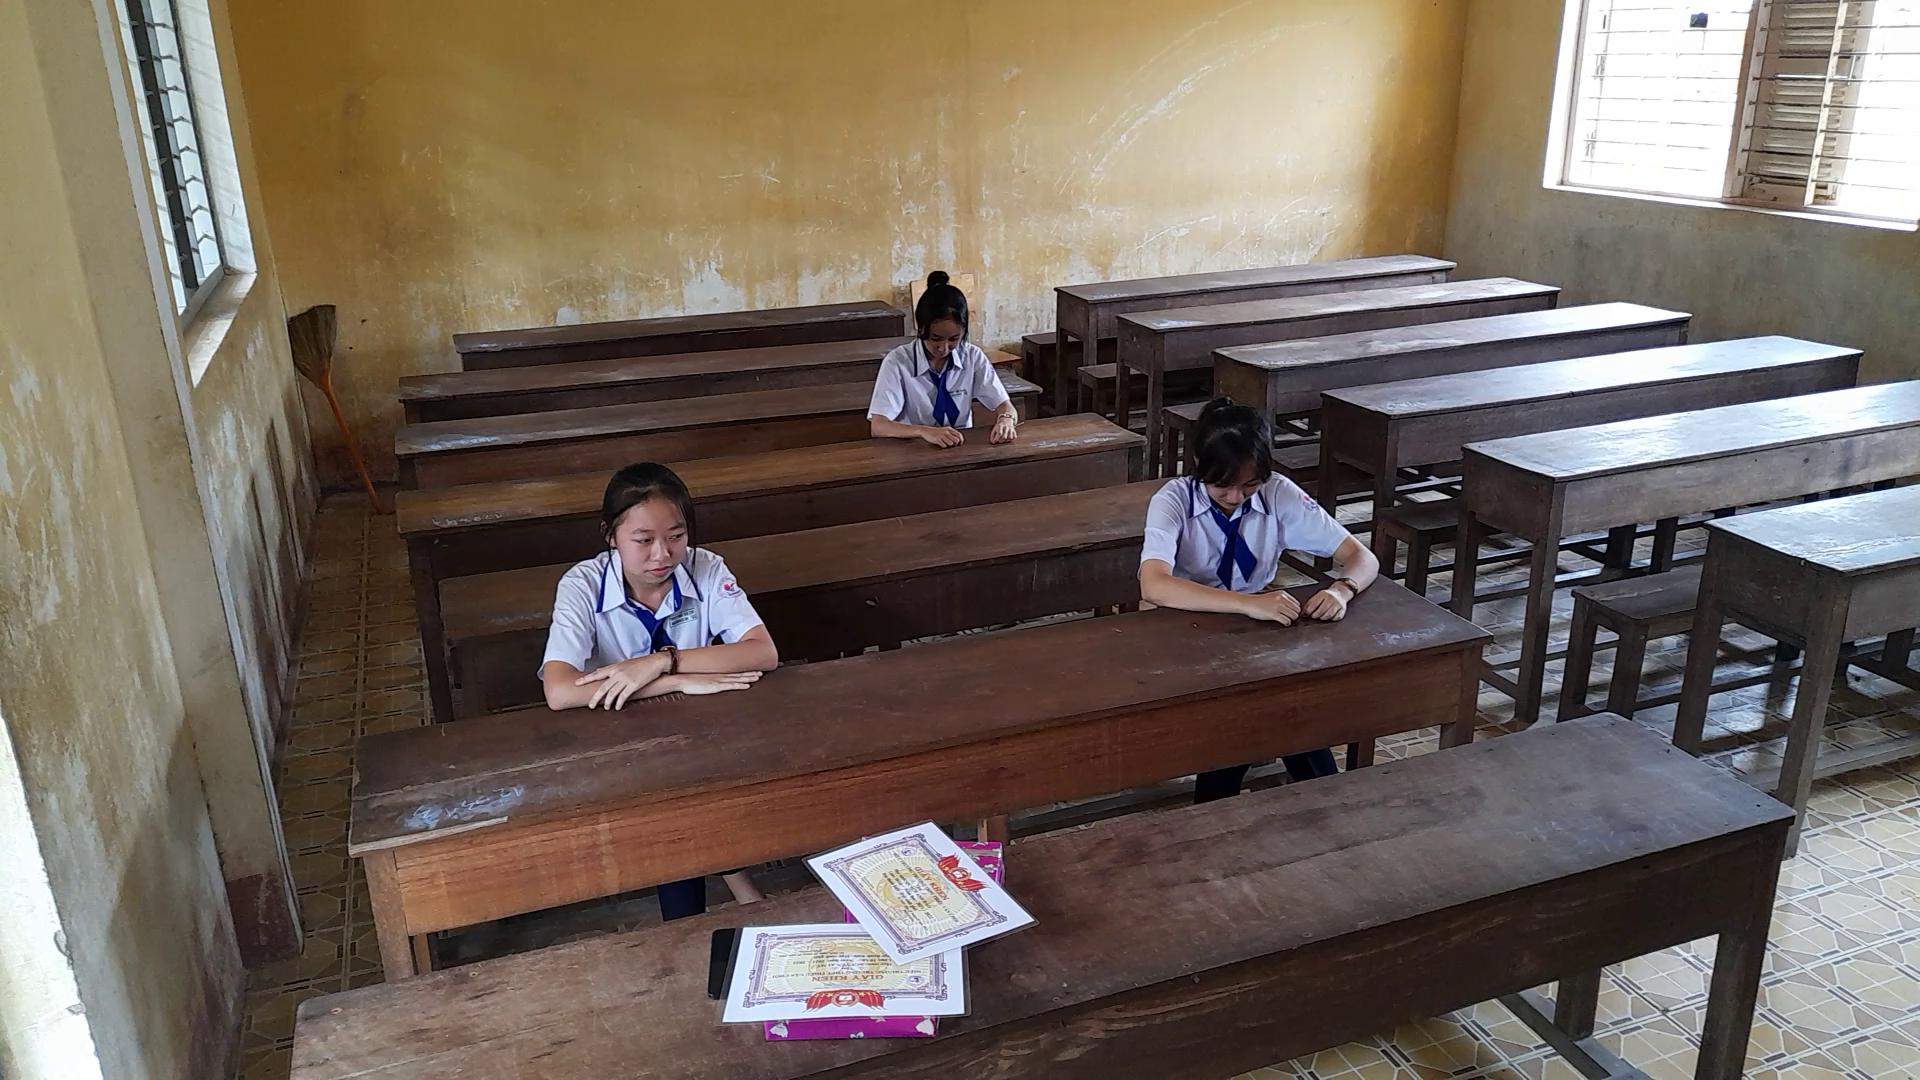Bend Over The Desk: (1166, 381, 1291, 517), (884, 248, 1009, 384)
Normal: (524, 459, 789, 717)
